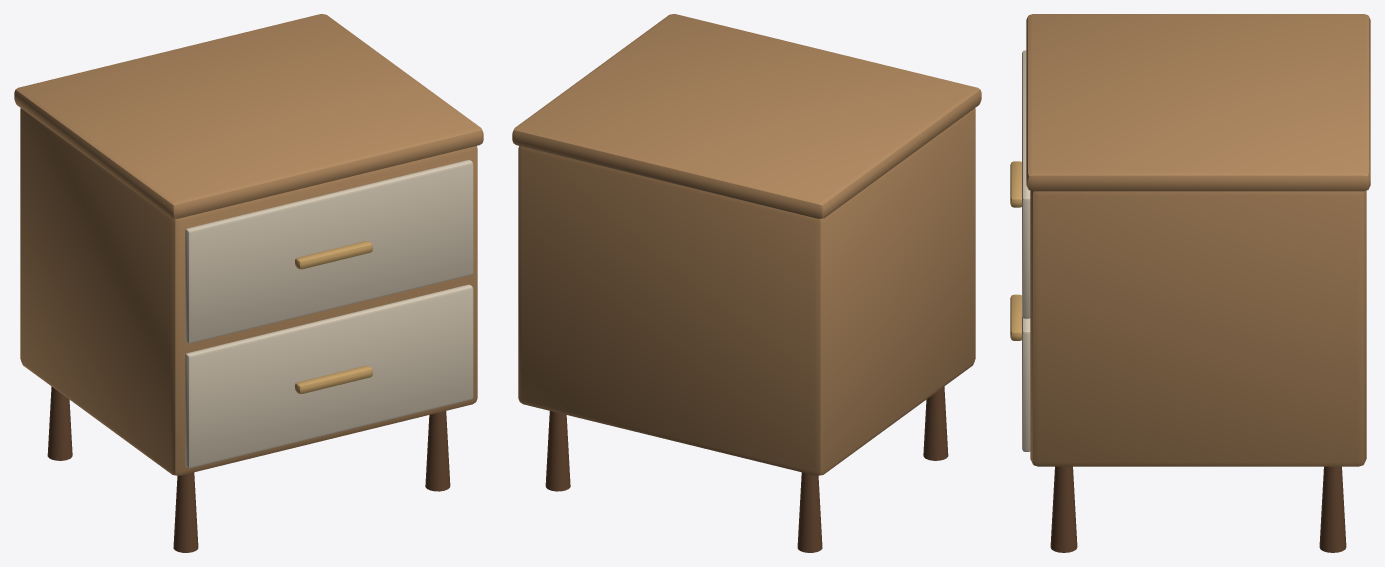
The model's file is nightstand.glb.
3 views of the same model, side by side, from view 1: azimuth 30°, elevation 25°; view 2: azimuth 150°, elevation 25°; view 3: azimuth 270°, elevation 25° (orthographic). The views are drawn at different scales.
Parts seen in each view (by area): view 1: box.001, box, box.002, box.004, leg, leg.002, leg.001, box.005, box.003; view 2: box, box.001, leg.001, leg.003, leg; view 3: box, box.001, leg.003, leg.002, box.004, box.002, box.003, box.005.
Part boxes in pixels (x1=…): box.001: x1=14, y1=14, x2=483, y2=218; box: x1=20, y1=108, x2=477, y2=475; box.002: x1=185, y1=284, x2=473, y2=468; box.004: x1=185, y1=160, x2=473, y2=343; leg: x1=173, y1=472, x2=198, y2=552; leg.002: x1=425, y1=411, x2=450, y2=491; leg.001: x1=47, y1=386, x2=72, y2=460; box.005: x1=295, y1=241, x2=372, y2=269; box.003: x1=295, y1=365, x2=372, y2=393; box: x1=518, y1=108, x2=975, y2=475; box.001: x1=512, y1=14, x2=981, y2=218; leg.001: x1=797, y1=472, x2=822, y2=552; leg.003: x1=545, y1=411, x2=570, y2=491; leg: x1=923, y1=386, x2=948, y2=460; box: x1=1030, y1=190, x2=1366, y2=466; box.001: x1=1026, y1=14, x2=1370, y2=191; leg.003: x1=1319, y1=466, x2=1346, y2=552; leg.002: x1=1050, y1=466, x2=1077, y2=552; box.004: x1=1022, y1=50, x2=1030, y2=318; box.002: x1=1022, y1=316, x2=1030, y2=451; box.003: x1=1010, y1=294, x2=1021, y2=340; box.005: x1=1010, y1=161, x2=1021, y2=207.
Size of the model in its own units: 46 by 51 by 42.9.
